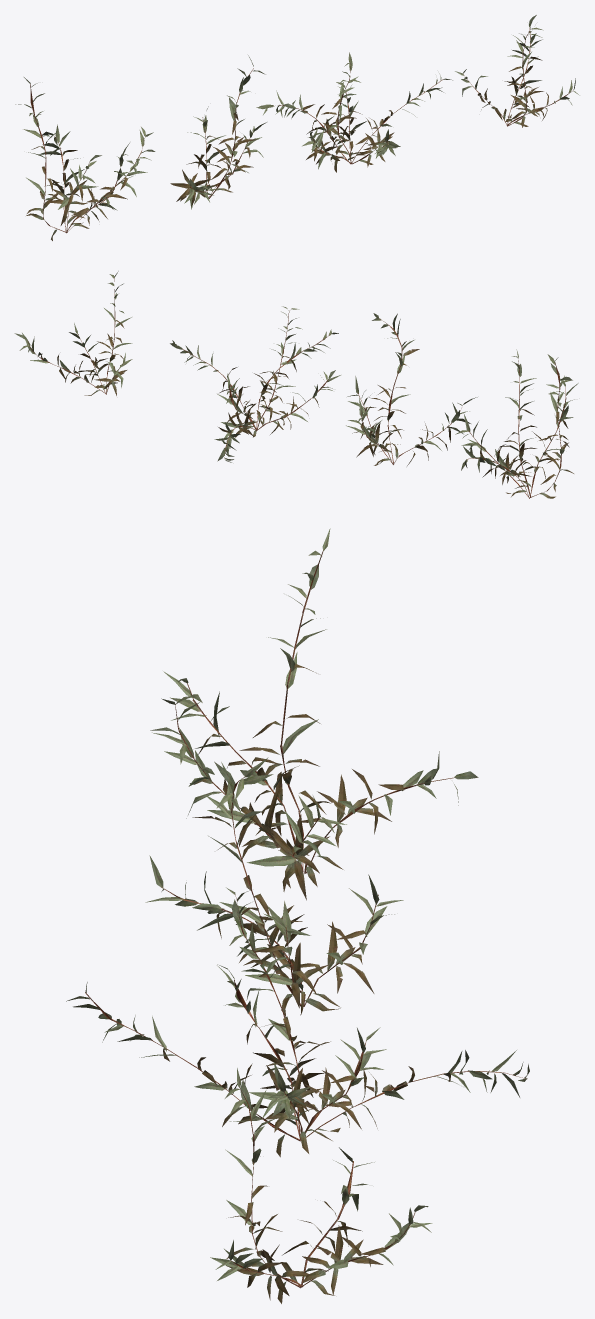
The model's file is shrub_02_lod0.gltf.
3 views of the same model, one above another, from view 1: azimuth 30°, elevation 25°; view 2: azimuth 150°, elevation 25°; view 3: azimuth 270°, elevation 25° (orthographic). The views are drawn at different scales.
Visible parts, largest first — view 1: shrub_02_lod0; view 2: shrub_02_lod0; view 3: shrub_02_lod0.
Boxes of the visible parts, <box> form: shrub_02_lod0: <box>15,15,579,240</box>; shrub_02_lod0: <box>14,271,578,498</box>; shrub_02_lod0: <box>66,528,529,1303</box>.
Size of the model in its own units: 6.03 by 1.69 by 2.28.
1 material, 1 textured.
